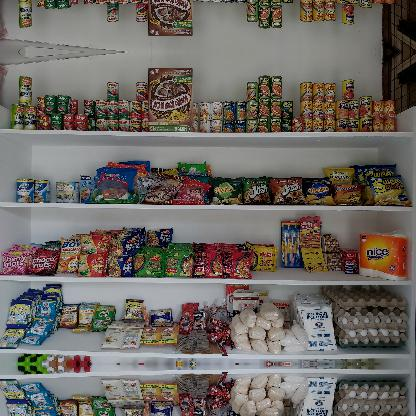Koko-Krunch: (148, 68, 192, 132), (148, 0, 192, 37)
